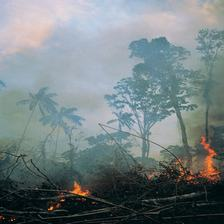fire: (144, 134, 219, 196), (41, 176, 110, 215)
